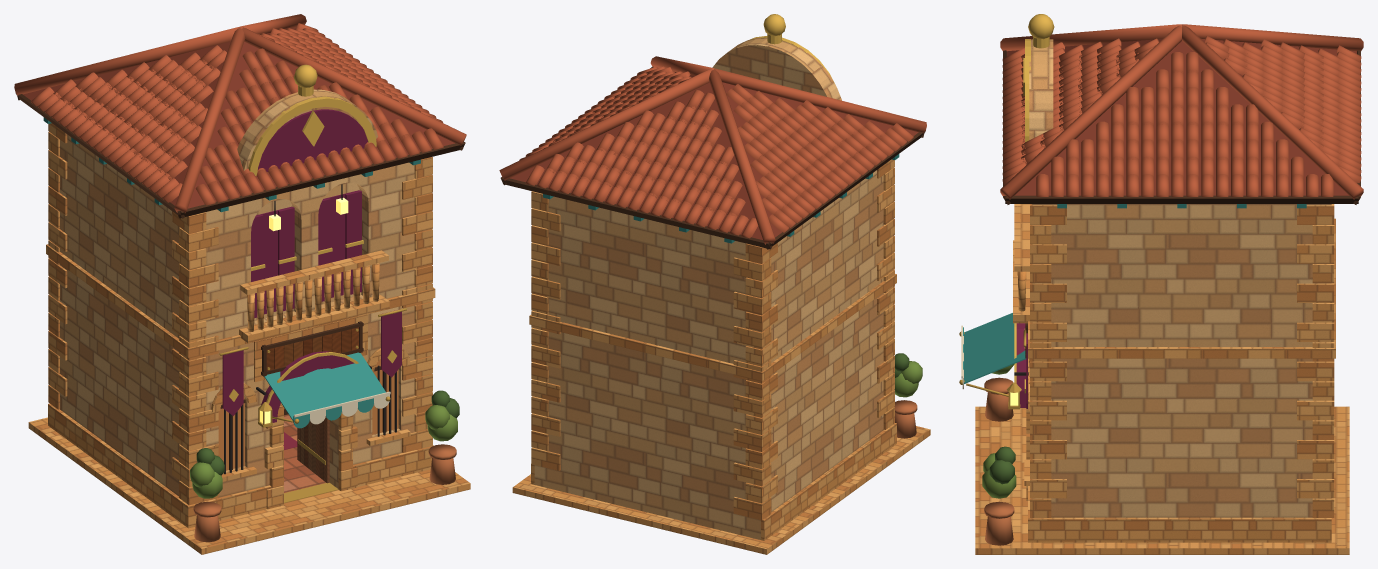
Rendered from house_small_loggia.glb.
3 views of the same model, side by side, from view 1: azimuth 30°, elevation 25°; view 2: azimuth 150°, elevation 25°; view 3: azimuth 270°, elevation 25° (orthographic). The views are drawn at different scales.
Visible parts, largest first — view 1: exterior_walls, exterior_trim, roof_tiles, facade_details, roof_structure, opt_awning, planters, door_frame, windows, sign_board, door_leaf, interior_floor (+1 smaller); view 2: exterior_walls, roof_tiles, exterior_trim, roof_structure, planters; view 3: exterior_walls, roof_tiles, exterior_trim, roof_structure, planters, opt_awning, facade_details.
Boxes of the visible parts, x1,y1,x2,y2 form: exterior_walls: (59, 134, 415, 497); exterior_trim: (28, 123, 470, 554); roof_tiles: (14, 14, 466, 213); facade_details: (219, 184, 406, 422); roof_structure: (15, 27, 465, 218); opt_awning: (264, 352, 390, 428); planters: (190, 390, 459, 542); door_frame: (264, 403, 357, 509); windows: (218, 358, 398, 474); sign_board: (261, 321, 363, 376); door_leaf: (297, 416, 329, 483); interior_floor: (283, 414, 325, 492); exterior_walls: (534, 170, 884, 539); roof_tiles: (499, 56, 926, 244); exterior_trim: (512, 159, 930, 554); roof_structure: (500, 14, 925, 249); planters: (894, 353, 922, 438); exterior_walls: (1032, 204, 1331, 517); roof_tiles: (1000, 24, 1363, 199); exterior_trim: (975, 204, 1349, 554); roof_structure: (1003, 14, 1360, 208); planters: (982, 364, 1016, 545); opt_awning: (959, 313, 1028, 402); facade_details: (1013, 204, 1029, 408).
Bounding box in the file's own units: 6.07 × 8.64 × 6.75.
23 materials, 5 textured.
